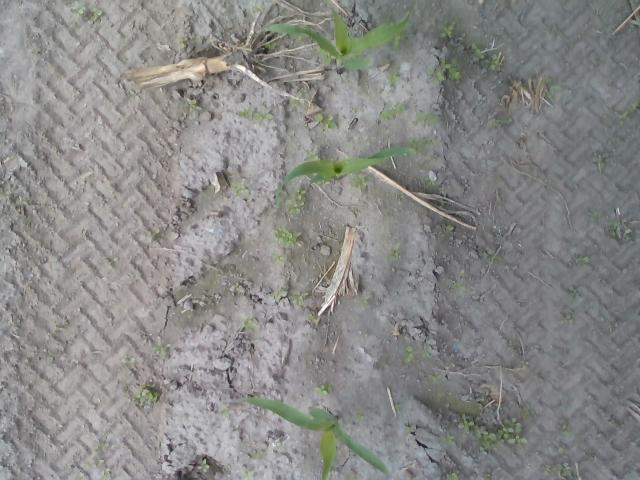Maize: (225, 394, 392, 480), (254, 0, 417, 71), (276, 146, 418, 208)
Weeds: (474, 416, 528, 450), (468, 42, 503, 70), (273, 288, 308, 312), (542, 461, 579, 480), (70, 1, 102, 22), (272, 224, 298, 248), (285, 188, 307, 216), (433, 61, 461, 82), (379, 102, 408, 122), (617, 102, 640, 126), (608, 222, 633, 242), (133, 385, 161, 402), (240, 108, 274, 122), (312, 110, 338, 128), (566, 286, 583, 304), (438, 21, 454, 40), (416, 111, 441, 123), (313, 382, 332, 396), (270, 250, 288, 264), (304, 312, 320, 327), (153, 344, 169, 359), (239, 318, 256, 332), (460, 416, 474, 432), (386, 70, 400, 86), (404, 346, 417, 362), (188, 98, 202, 112), (232, 184, 248, 196), (198, 458, 210, 472), (102, 464, 112, 480), (241, 470, 257, 480), (442, 433, 454, 445), (97, 441, 109, 452), (356, 410, 366, 423), (445, 471, 459, 480), (576, 255, 590, 264), (389, 248, 399, 260), (430, 373, 442, 381), (360, 296, 369, 304)
